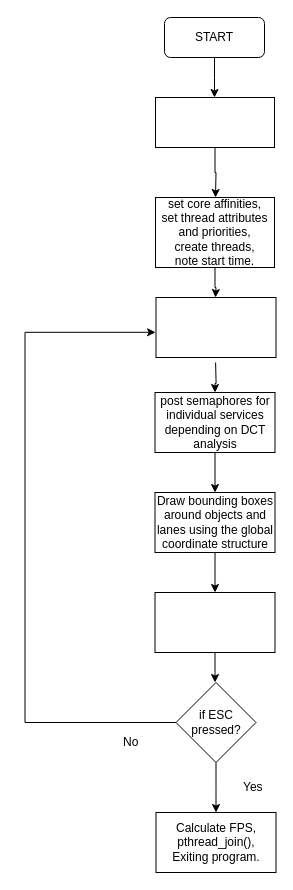
This 293x890 diagram has some shape labels left out. The shapes that lost their labels are listed below. From the top down, each one's box as (x1, y1, x2, y2) in pixels, then its label:
(154, 96, 274, 148): Initialize variables, changes scheduling policy to sched_fifo,
(155, 296, 276, 358): Read frame and Increment frame count
(154, 592, 275, 652): Display annotated frames
